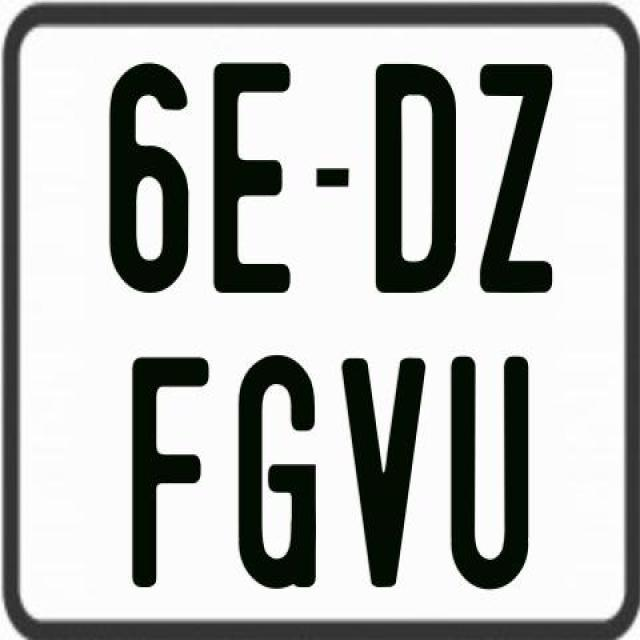6: (106, 58, 188, 288)
D: (372, 59, 452, 291)
E: (209, 63, 295, 294)
F: (129, 354, 212, 586)
G: (237, 353, 320, 588)
U: (450, 357, 534, 590)
V: (340, 354, 426, 588)
Z: (478, 59, 554, 293)
